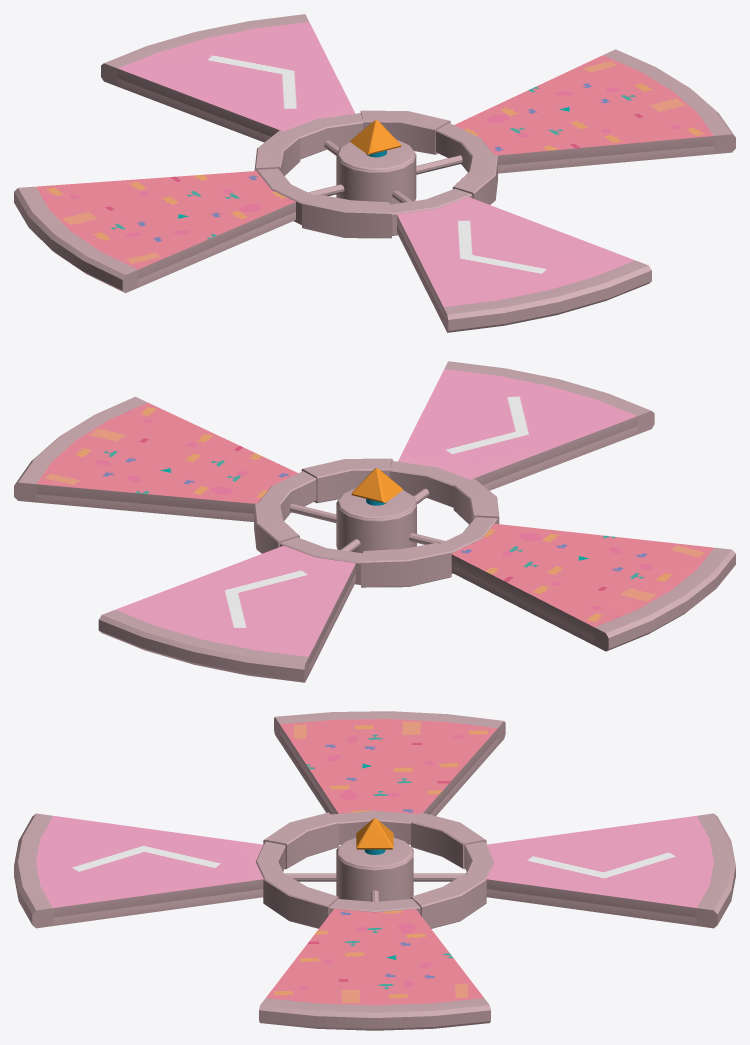
Rendered from PLF0110038.fbx.
The picture shows the model from 3 angles, top to bottom: view 1: azimuth 30°, elevation 25°; view 2: azimuth 150°, elevation 25°; view 3: azimuth 270°, elevation 25°; orthographic projection. The views are drawn at different scales.
Visible parts, largest first — view 1: smPLF0110038; view 2: smPLF0110038; view 3: smPLF0110038.
Boxes of the visible parts, bbox=[...] form: smPLF0110038: bbox=[14, 14, 735, 332]; smPLF0110038: bbox=[14, 361, 735, 682]; smPLF0110038: bbox=[14, 711, 735, 1030].
Size of the model in its own units: 748 by 88.48 by 748.
Materials: 1 (1 with a texture image).
